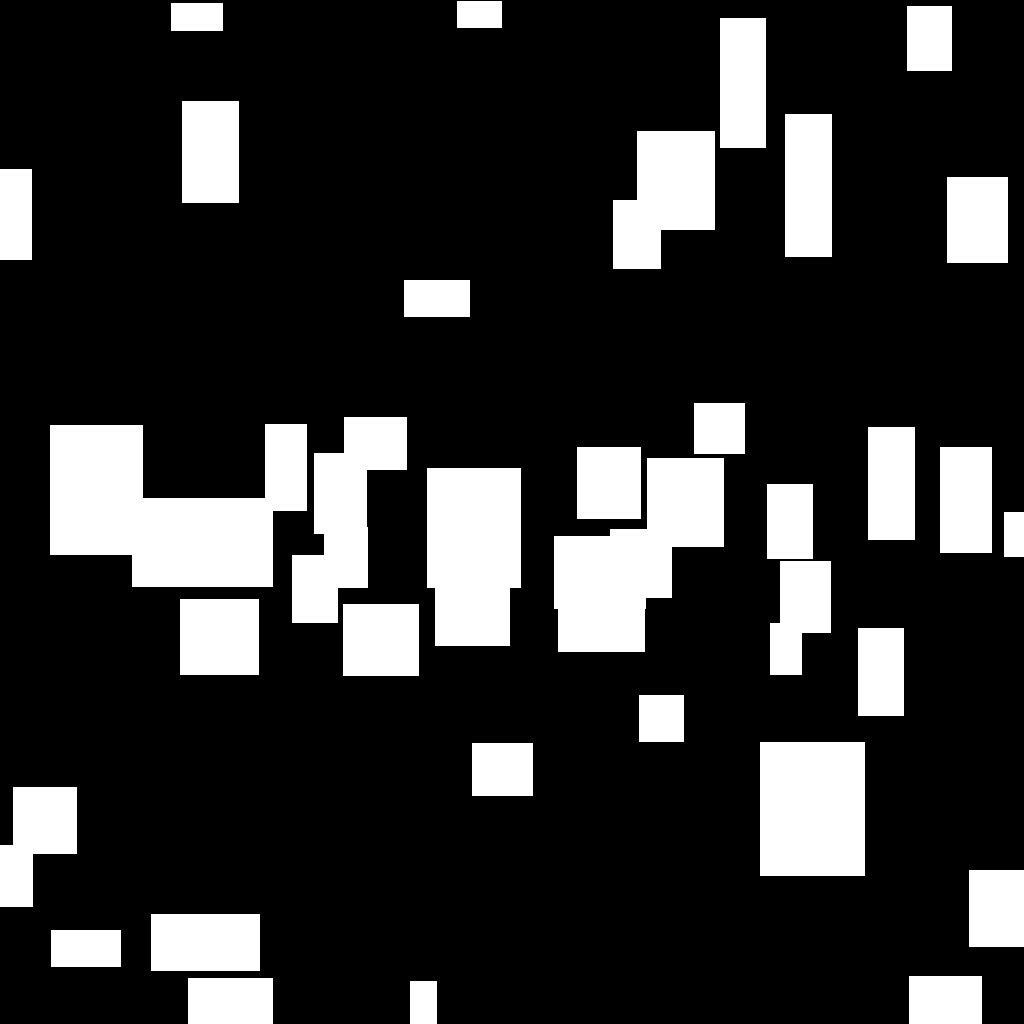wheat_head: (760, 742, 864, 875), (132, 498, 272, 586), (50, 425, 142, 554), (427, 468, 520, 587), (637, 131, 714, 229), (647, 458, 723, 546), (554, 536, 645, 608), (785, 114, 831, 256), (435, 563, 509, 645), (151, 914, 259, 970), (558, 582, 644, 651), (180, 599, 258, 674), (720, 18, 765, 147), (182, 101, 238, 202), (940, 447, 991, 552), (343, 604, 418, 675), (868, 427, 914, 539), (947, 177, 1007, 262), (577, 447, 640, 518), (969, 870, 1024, 946), (314, 453, 366, 533), (13, 787, 76, 853), (610, 529, 671, 597), (858, 628, 903, 715), (188, 978, 272, 1024), (780, 561, 830, 632), (265, 424, 306, 510), (909, 976, 981, 1024), (767, 484, 812, 558), (344, 417, 406, 469), (613, 200, 660, 268), (472, 743, 532, 795), (292, 555, 337, 622), (907, 6, 951, 70), (0, 169, 31, 259), (324, 527, 367, 587), (694, 403, 744, 453), (51, 930, 120, 966), (404, 280, 469, 316), (639, 695, 683, 741), (0, 845, 32, 906), (770, 623, 801, 674), (171, 3, 222, 30), (457, 1, 501, 27), (410, 981, 436, 1024), (1004, 512, 1024, 556)
